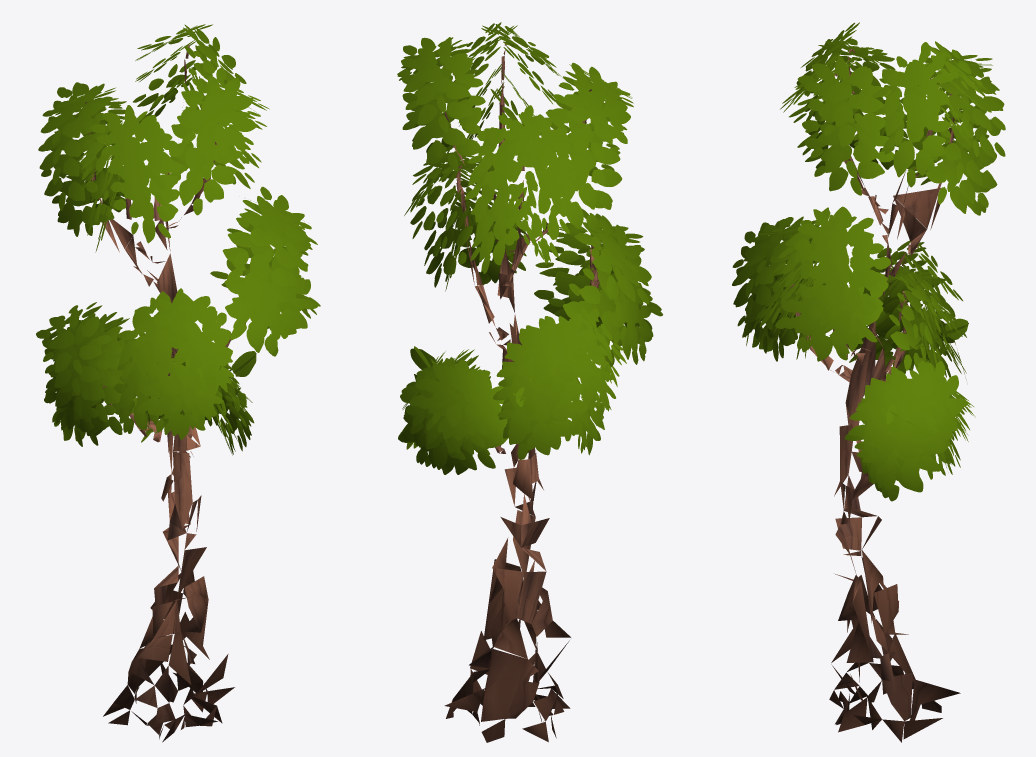
The model's file is CommonTree_3_lod1.glb.
3 renders of one model, left to right at view 1: azimuth 30°, elevation 25°; view 2: azimuth 150°, elevation 25°; view 3: azimuth 270°, elevation 25°, orthographic. The views are drawn at different scales.
Parts seen in each view (by area): view 1: CommonTree_3; view 2: CommonTree_3; view 3: CommonTree_3.
Boxes of the visible parts, x1,y1,x2,y2 form: CommonTree_3: [36, 24, 320, 742]; CommonTree_3: [397, 22, 662, 742]; CommonTree_3: [732, 22, 1005, 742].
Size of the model in its own units: 3.5 by 8.69 by 3.45.
Materials: 2 (2 with a texture image).
